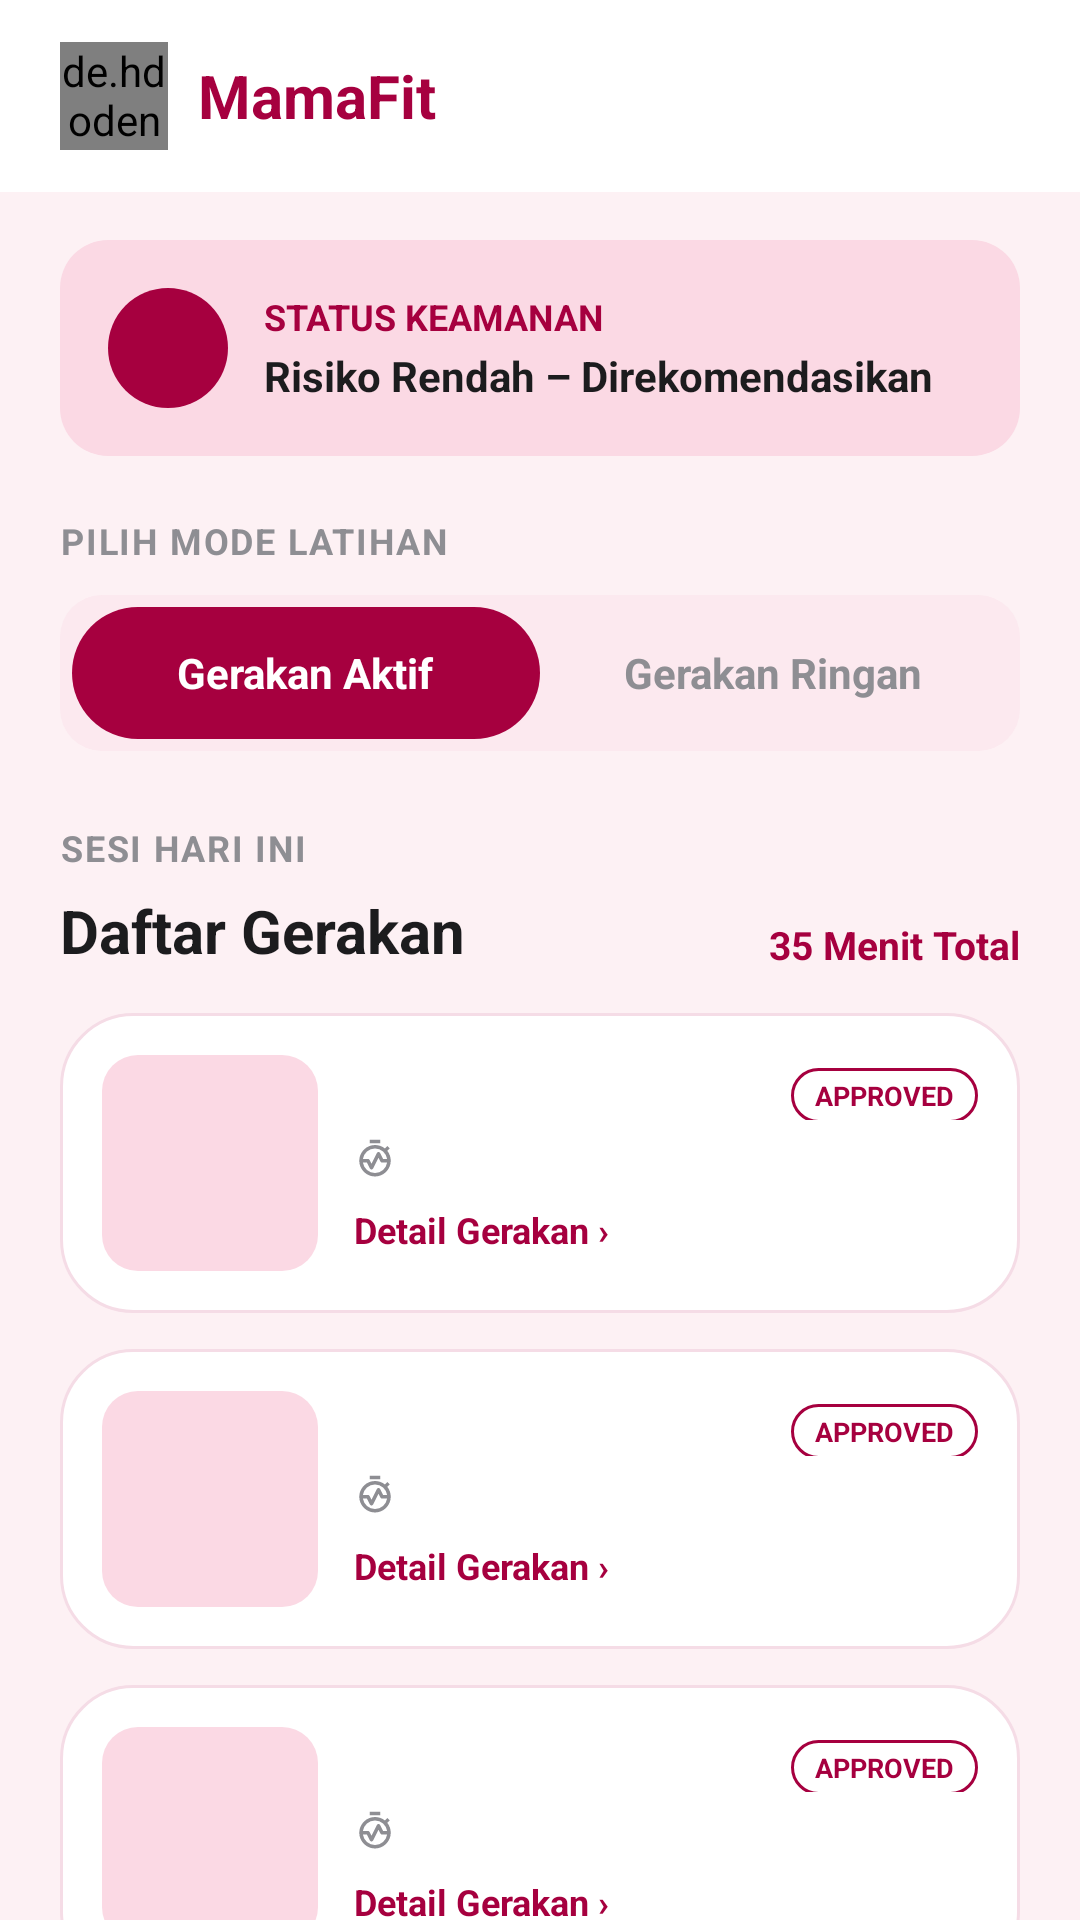

Where to tap for icons on this 1080w x 1920h app screen, as (x,y):
Durasi: (375,1158), (375,1494), (375,1830)
